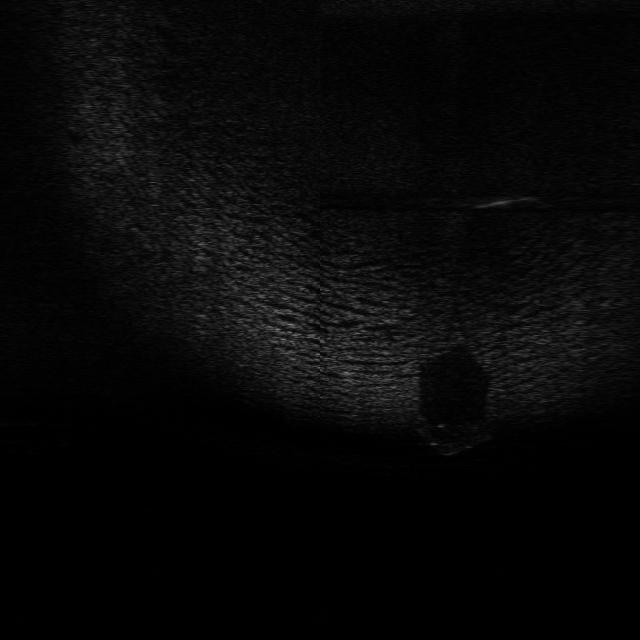cube: (418, 412, 494, 458)
